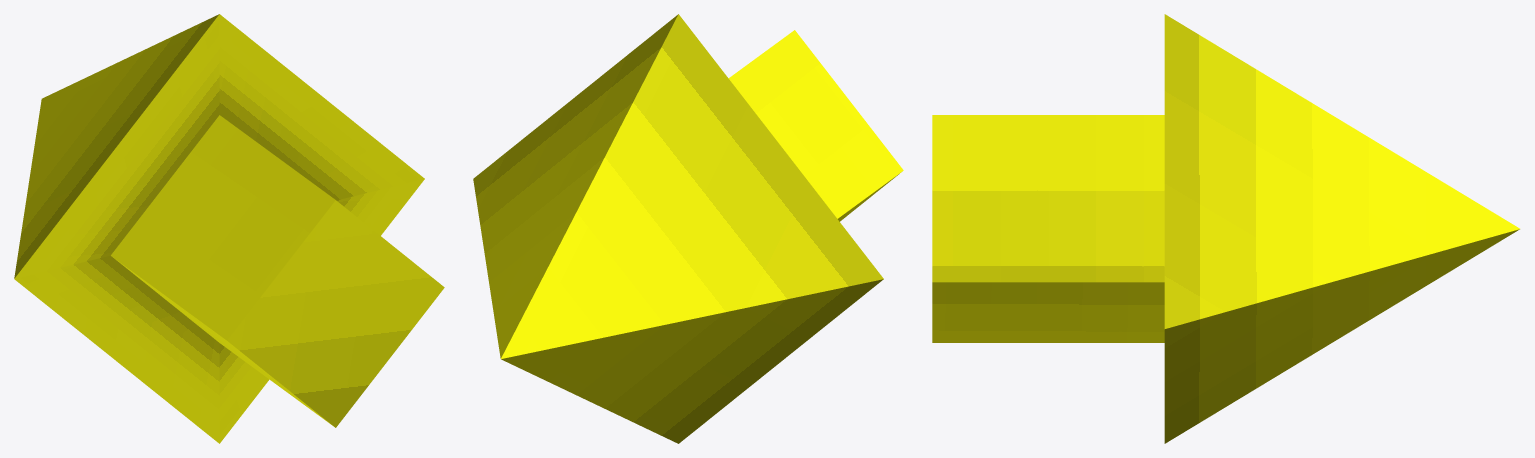
Rendered from bor__client__ui__arrow.glb.
3 views of the same model, side by side, from view 1: azimuth 30°, elevation 25°; view 2: azimuth 150°, elevation 25°; view 3: azimuth 270°, elevation 25° (orthographic).
Parts seen in each view (by area): view 1: arrow1; view 2: arrow1; view 3: arrow1.
Part boxes in pixels (left/top/right/bottom): arrow1: left=14, top=14, right=444, bottom=443; arrow1: left=473, top=14, right=903, bottom=443; arrow1: left=932, top=14, right=1519, bottom=443.
Size of the model in its own units: 1.26 by 1.26 by 1.56.
1 material, 1 textured.
